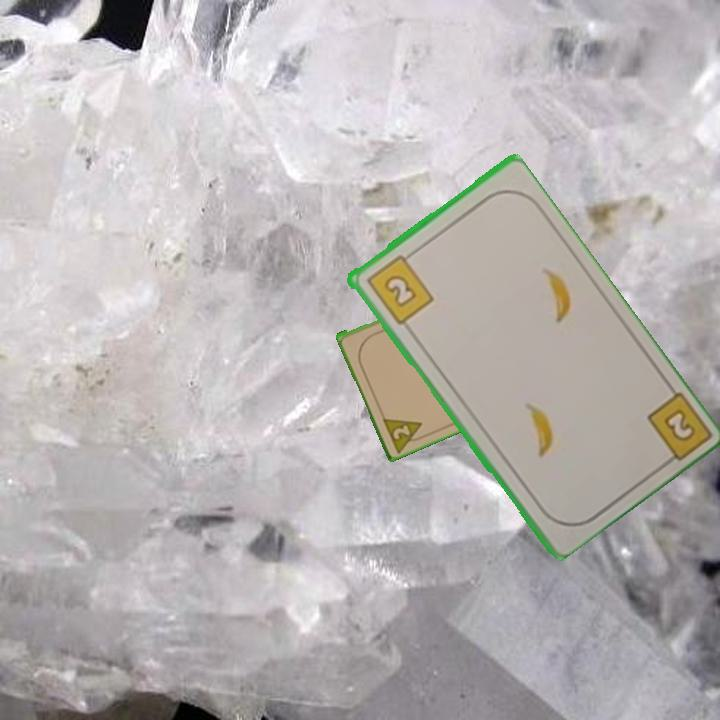2b: (362, 248, 436, 328), (642, 387, 711, 472)
2p: (378, 411, 431, 454)
